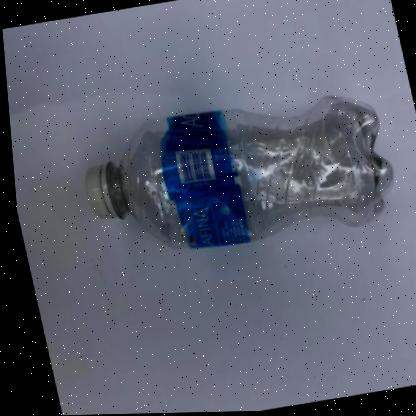Plastic: (80, 98, 389, 247)
